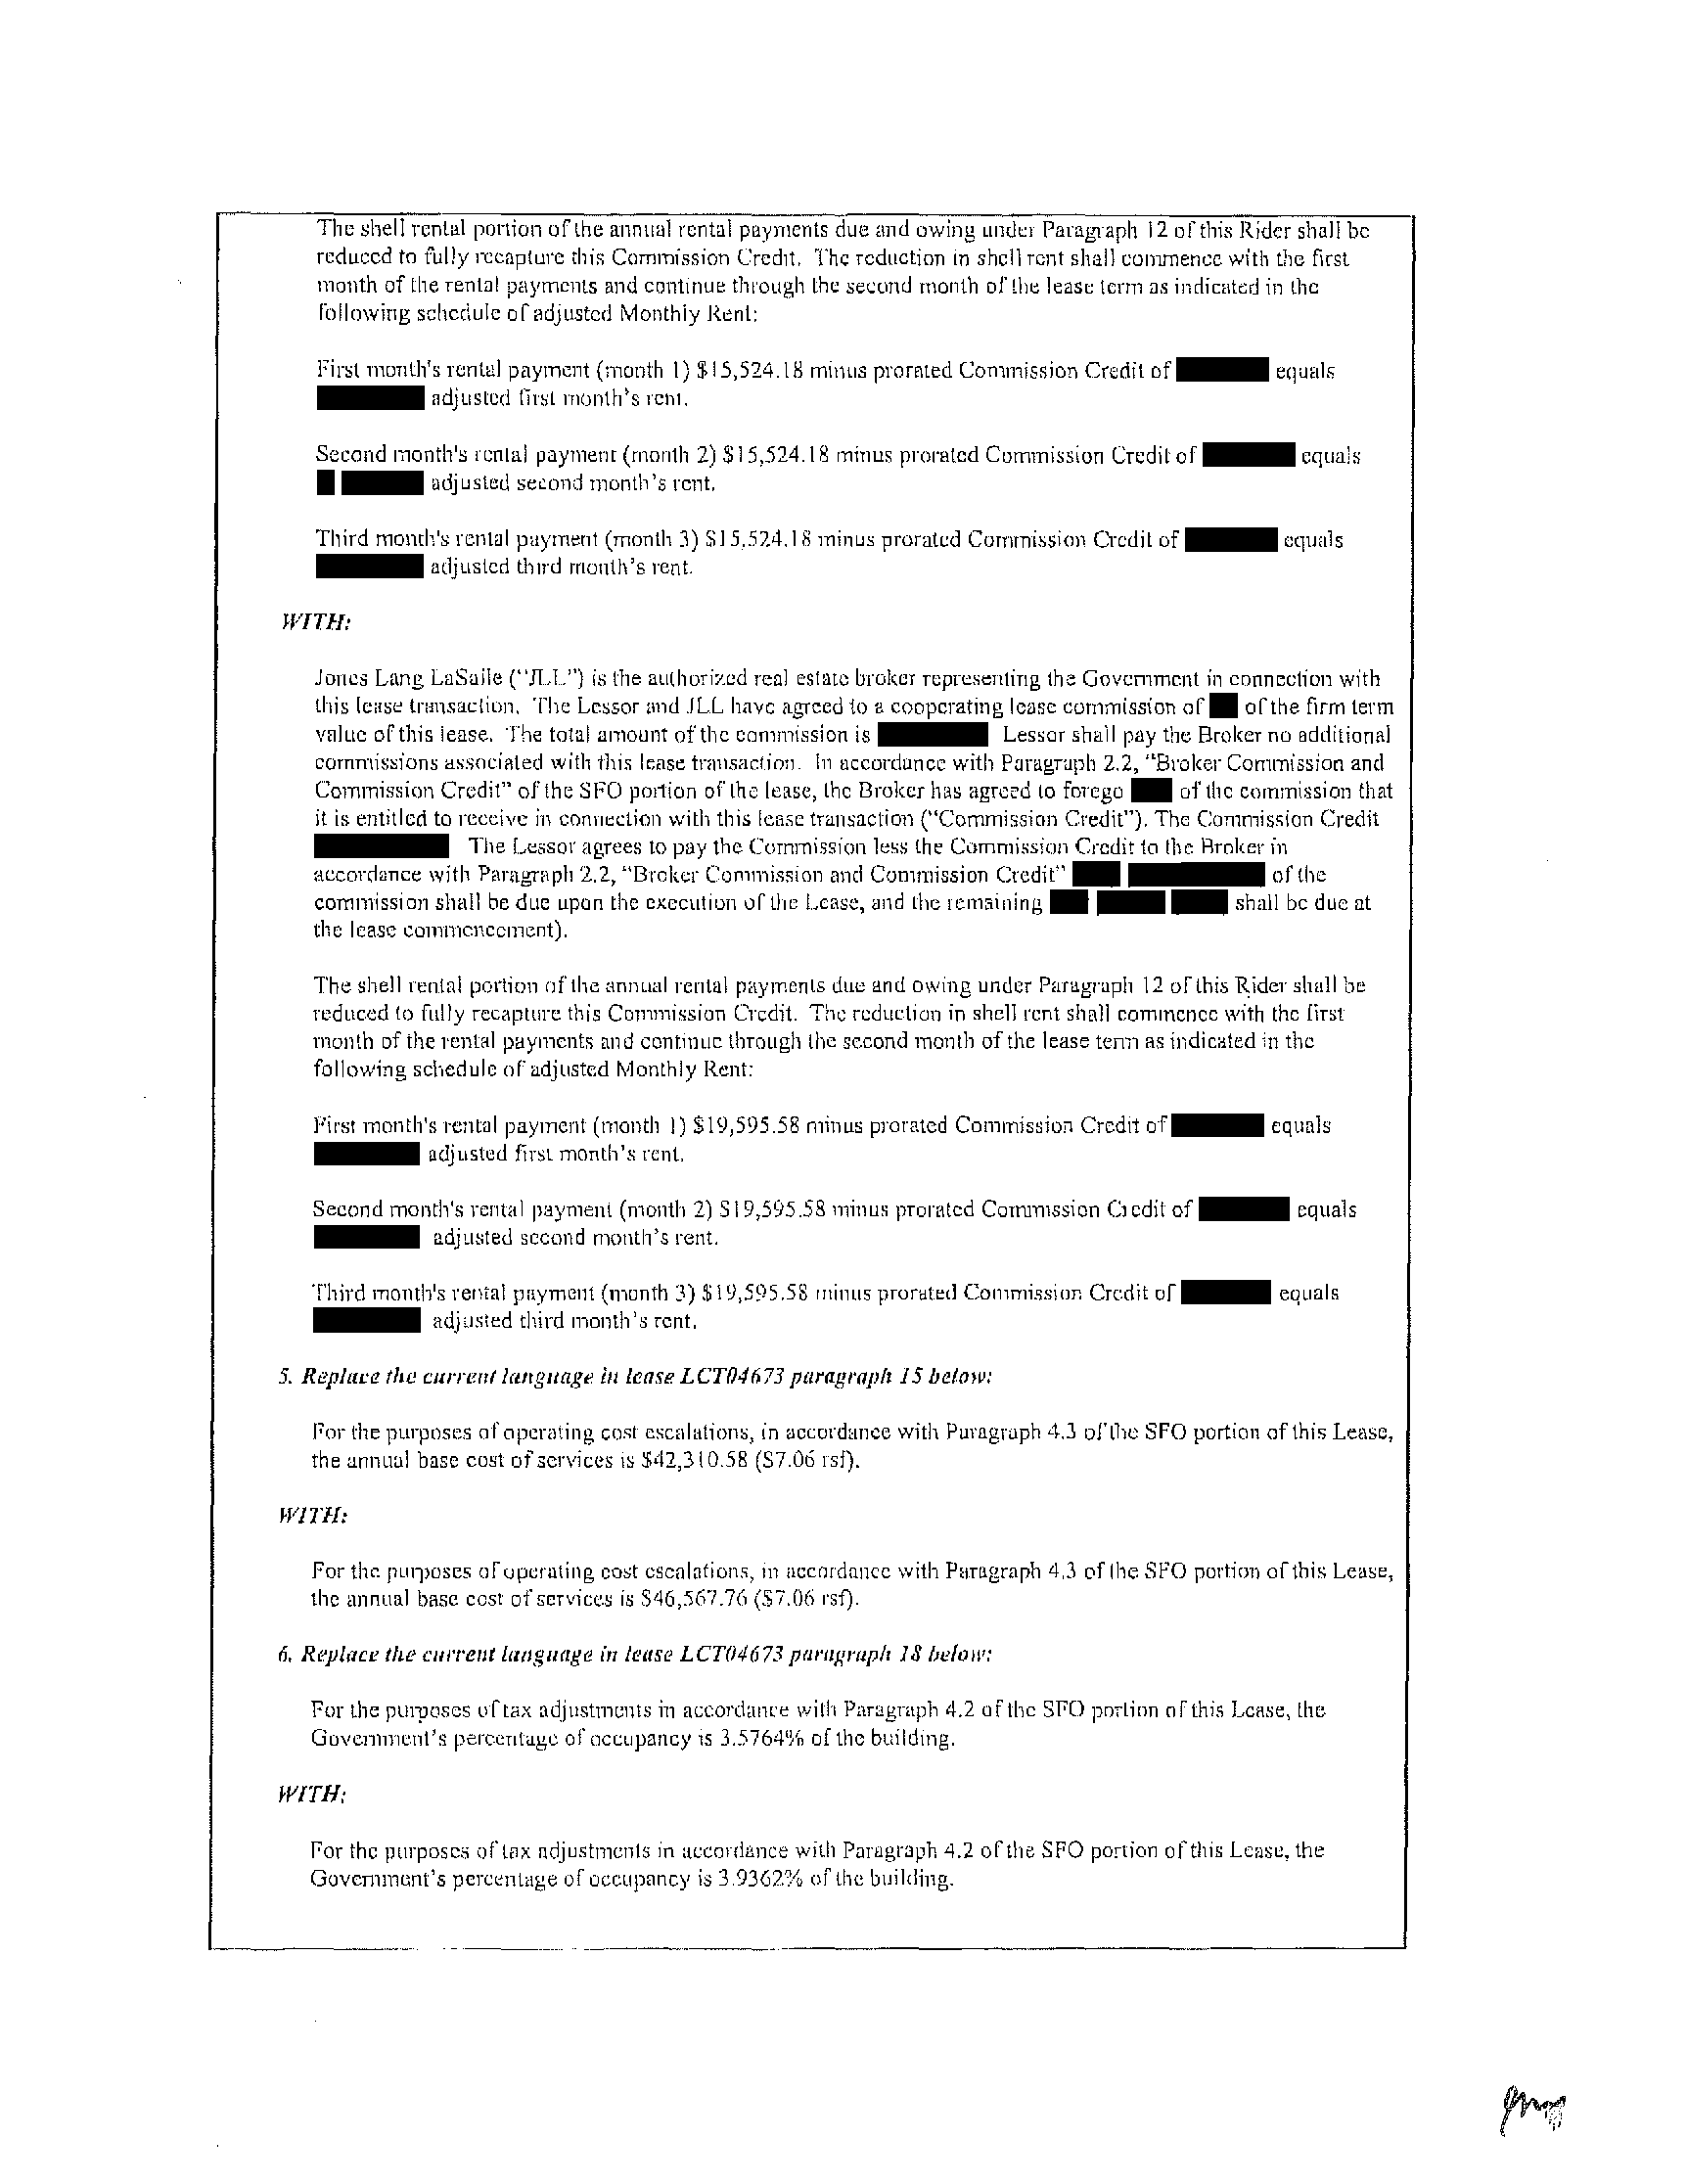handwritten: (1474, 2049, 1604, 2156)
